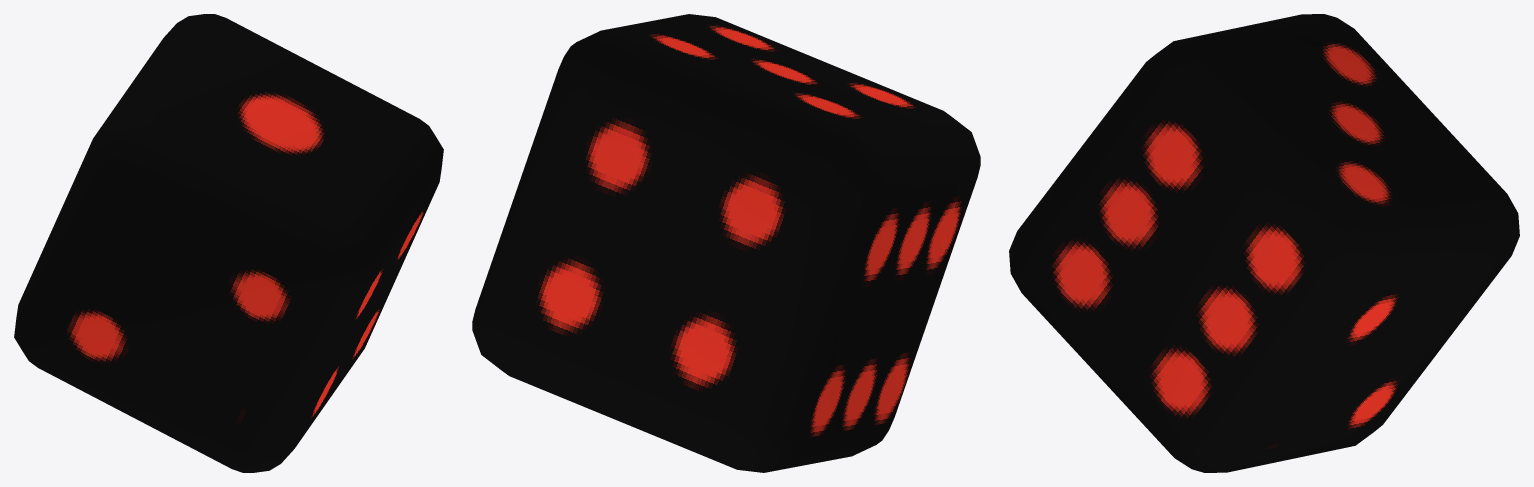
The model's file is ps2_save-icons_bombastic.glb.
The picture shows the model from 3 angles, left to right: view 1: azimuth 30°, elevation 25°; view 2: azimuth 150°, elevation 25°; view 3: azimuth 270°, elevation 25°; orthographic projection. The views are drawn at different scales.
Parts seen in each view (by area): view 1: xigo_idle.ico; view 2: xigo_idle.ico; view 3: xigo_idle.ico.
Boxes of the visible parts, x1,y1,x2,y2 form: xigo_idle.ico: (14, 14, 443, 472); xigo_idle.ico: (472, 14, 980, 472); xigo_idle.ico: (1009, 14, 1519, 472).
Bounding box in the file's own units: 4.27 × 4.91 × 5.02.
Materials: 1 (1 with a texture image).
